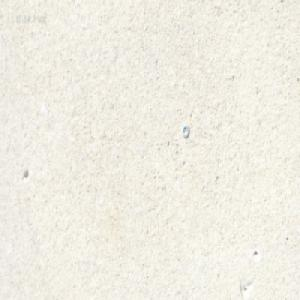Washer: (181, 123, 188, 138)
